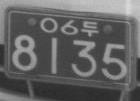0: (39, 17, 57, 33)
1: (42, 37, 66, 74)
3: (72, 39, 96, 77)
5: (101, 43, 128, 80)
6: (59, 18, 79, 35)
8: (11, 33, 38, 71)
두: (81, 19, 98, 36)
